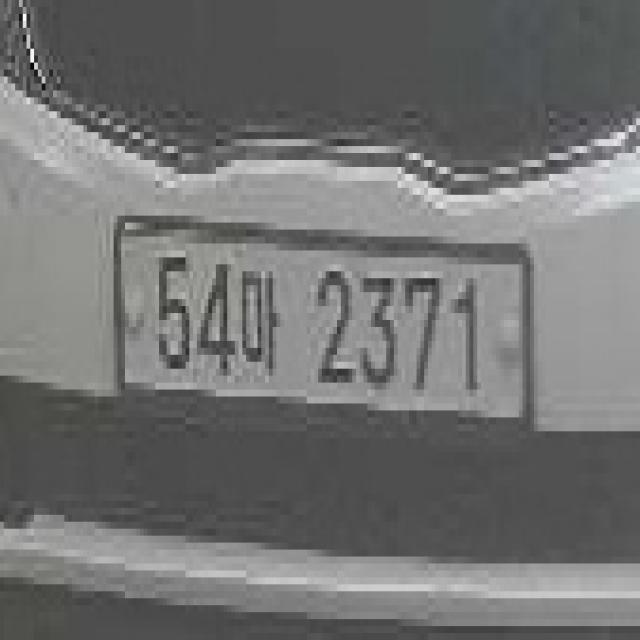1: (447, 264, 500, 438)
2: (311, 264, 356, 396)
3: (360, 264, 398, 404)
4: (190, 243, 238, 389)
5: (144, 244, 193, 396)
7: (394, 251, 447, 404)
license_plate: (91, 209, 545, 480)
ma: (235, 264, 284, 383)
